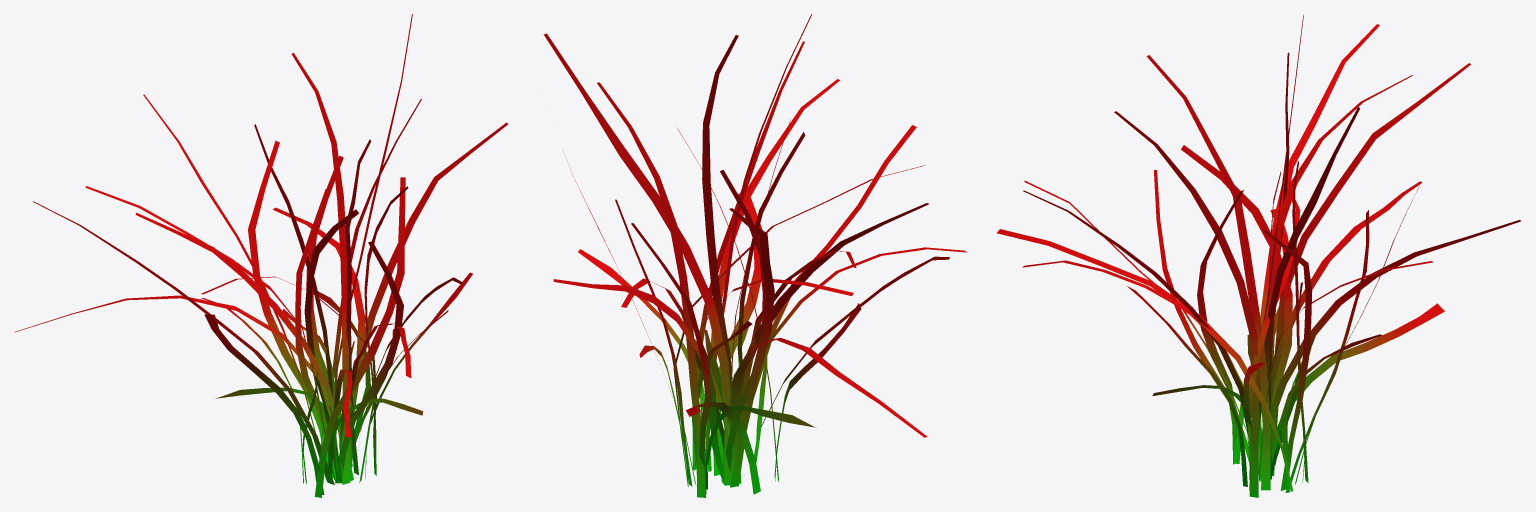
Rendered from Grass_A_Var2.FBX.
The picture shows the model from 3 angles, left to right: view 1: azimuth 30°, elevation 25°; view 2: azimuth 150°, elevation 25°; view 3: azimuth 270°, elevation 25°; orthographic projection. The views are drawn at different scales.
Parts seen in each view (by area): view 1: Grass_A_Var2_LOD00; view 2: Grass_A_Var2_LOD00; view 3: Grass_A_Var2_LOD00.
Boxes of the visible parts, x1=… form: Grass_A_Var2_LOD00: x1=14, y1=14, x2=508, y2=497; Grass_A_Var2_LOD00: x1=543, y1=14, x2=966, y2=497; Grass_A_Var2_LOD00: x1=996, y1=14, x2=1520, y2=497.
Size of what is drawn, in the model's own units: 52.27 by 49.72 by 52.36.
